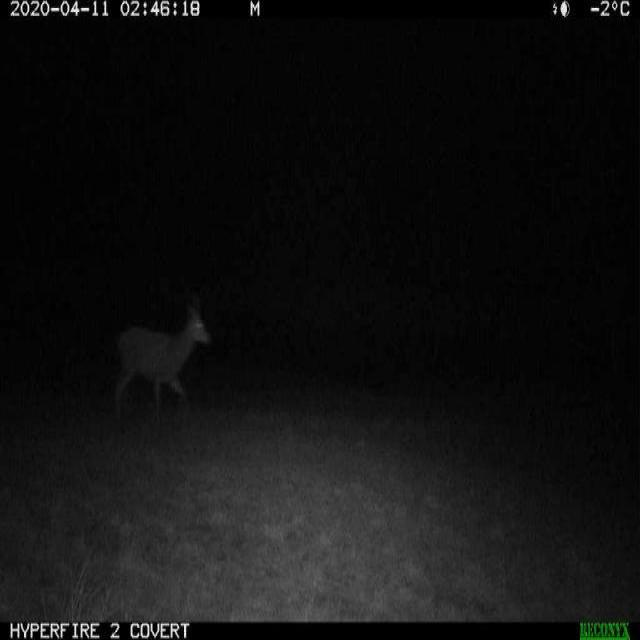deer: (103, 285, 226, 439)
